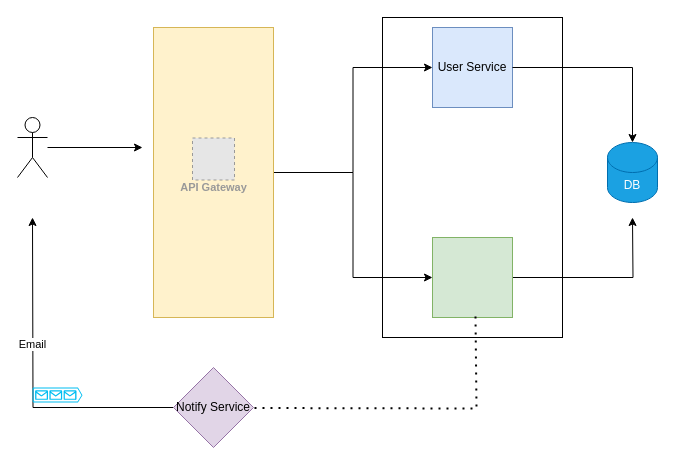
Image size: 675x465. Some labels were removed from this diagram. Grey dashed boxes stand in for pictures. The shapes that lost their labels are listed below. From the top down, each one's box as (x1, y1, x2, y2) in pixels, then its label:
(16, 116, 48, 178): Users
(432, 236, 512, 318): Leave Service
